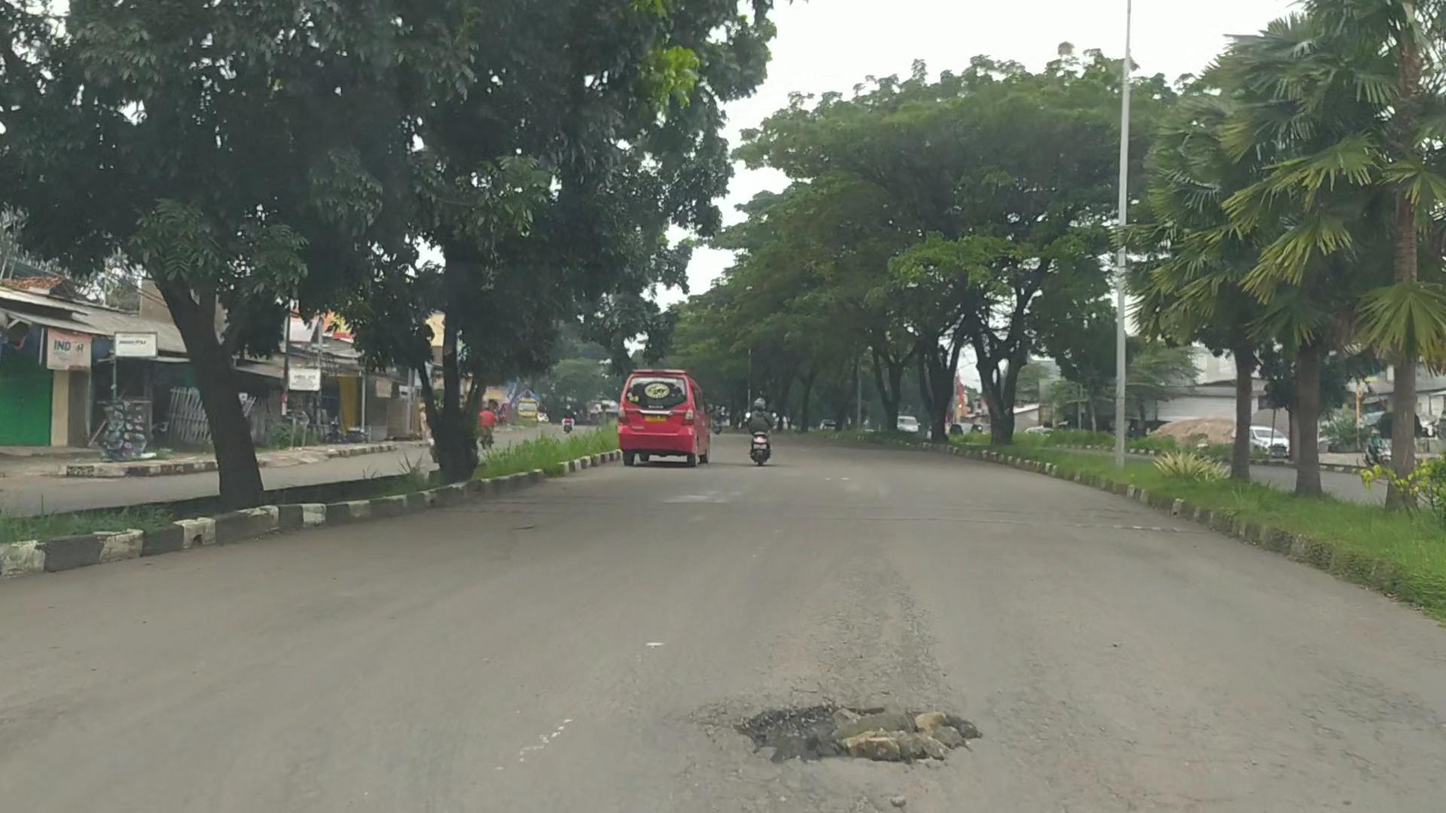pothole: (740, 705, 979, 761)
